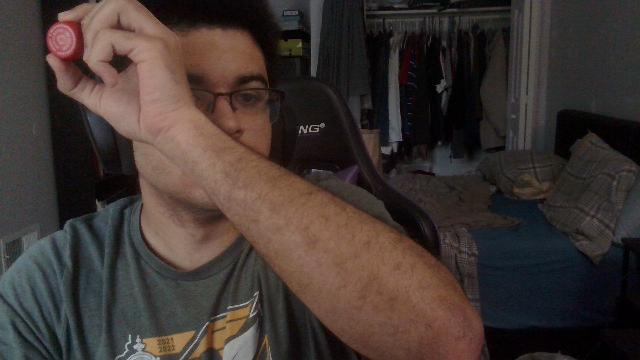cap: (47, 20, 83, 60)
